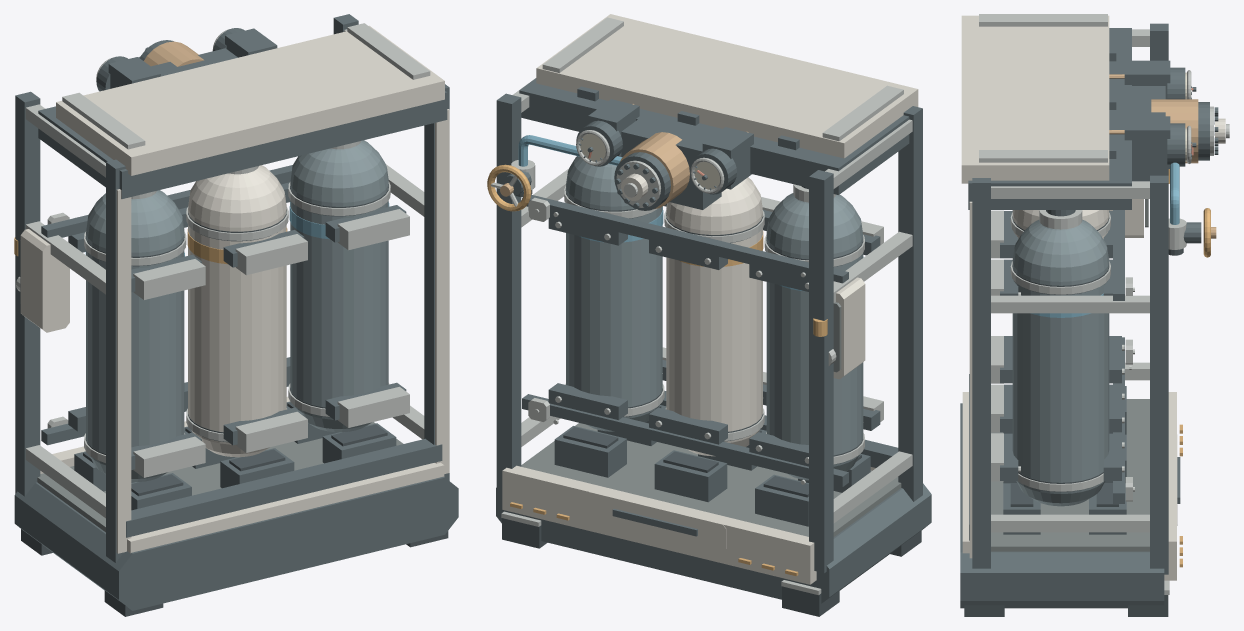
File: oxygen_reserve_source.glb
3 views of the same model, side by side, from view 1: azimuth 30°, elevation 25°; view 2: azimuth 150°, elevation 25°; view 3: azimuth 270°, elevation 25° (orthographic). The views are drawn at different scales.
Parts seen in each view (by area): view 1: static__frame, static__shell, static__trim, oxygen_cylinder_2__shell, oxygen_cylinder_3__darkblue, oxygen_cylinder_1__darkblue, static__recess, static__rubber, oxygen_cylinder_3__trim, oxygen_cylinder_2__trim, oxygen_cylinder_1__trim, static__copper; view 2: static__frame, static__shell, oxygen_cylinder_2__shell, oxygen_cylinder_3__darkblue, static__trim, oxygen_cylinder_1__darkblue, static__recess, static__rubber, static__copper, static__ceramic, oxygen_cylinder_1__trim, outlet_valve_wheel__amber (+3 smaller); view 3: static__frame, static__shell, oxygen_cylinder_3__darkblue, static__trim, static__recess, oxygen_cylinder_3__trim, static__rubber, static__copper, oxygen_cylinder_2__shell, static__cold, oxygen_cylinder_3__rubber, outlet_valve_wheel__amber.
Part boxes in pixels (<box>): static__frame: <box>14,14,458,610</box>; static__shell: <box>20,25,449,553</box>; static__trim: <box>25,23,430,518</box>; oxygen_cylinder_2__shell: <box>188,165,286,457</box>; oxygen_cylinder_3__darkblue: <box>290,140,388,432</box>; oxygen_cylinder_1__darkblue: <box>86,190,184,482</box>; static__recess: <box>20,240,403,532</box>; static__rubber: <box>21,402,448,616</box>; oxygen_cylinder_3__trim: <box>288,141,390,416</box>; oxygen_cylinder_2__trim: <box>186,166,288,441</box>; oxygen_cylinder_1__trim: <box>84,191,186,463</box>; static__copper: <box>144,41,203,66</box>; static__frame: <box>496,78,931,603</box>; static__shell: <box>502,14,918,584</box>; oxygen_cylinder_2__shell: <box>666,177,762,456</box>; oxygen_cylinder_3__darkblue: <box>566,156,662,431</box>; static__trim: <box>501,17,912,595</box>; oxygen_cylinder_1__darkblue: <box>766,193,863,480</box>; static__recess: <box>521,302,901,536</box>; static__rubber: <box>502,190,921,616</box>; static__copper: <box>620,104,748,208</box>; static__ceramic: <box>580,134,720,189</box>; oxygen_cylinder_1__trim: <box>764,184,864,464</box>; outlet_valve_wheel__amber: <box>487,164,531,211</box>; static__frame: <box>960,23,1218,608</box>; static__shell: <box>961,15,1177,580</box>; oxygen_cylinder_3__darkblue: <box>1012,219,1109,506</box>; static__trim: <box>979,14,1213,594</box>; static__recess: <box>991,199,1149,551</box>; oxygen_cylinder_3__trim: <box>1010,210,1110,491</box>; static__rubber: <box>964,248,1183,616</box>; static__copper: <box>1109,74,1198,163</box>; oxygen_cylinder_2__shell: <box>1012,210,1109,259</box>; static__cold: <box>1170,162,1179,224</box>; oxygen_cylinder_3__rubber: <box>1012,265,1109,491</box>; outlet_valve_wheel__amber: <box>1203,208,1210,257</box>.
Size of the model in its own units: 1.45 by 1.87 by 1.
